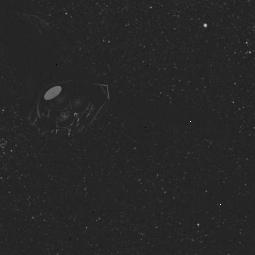xmm_newton: (20, 73, 116, 145)
